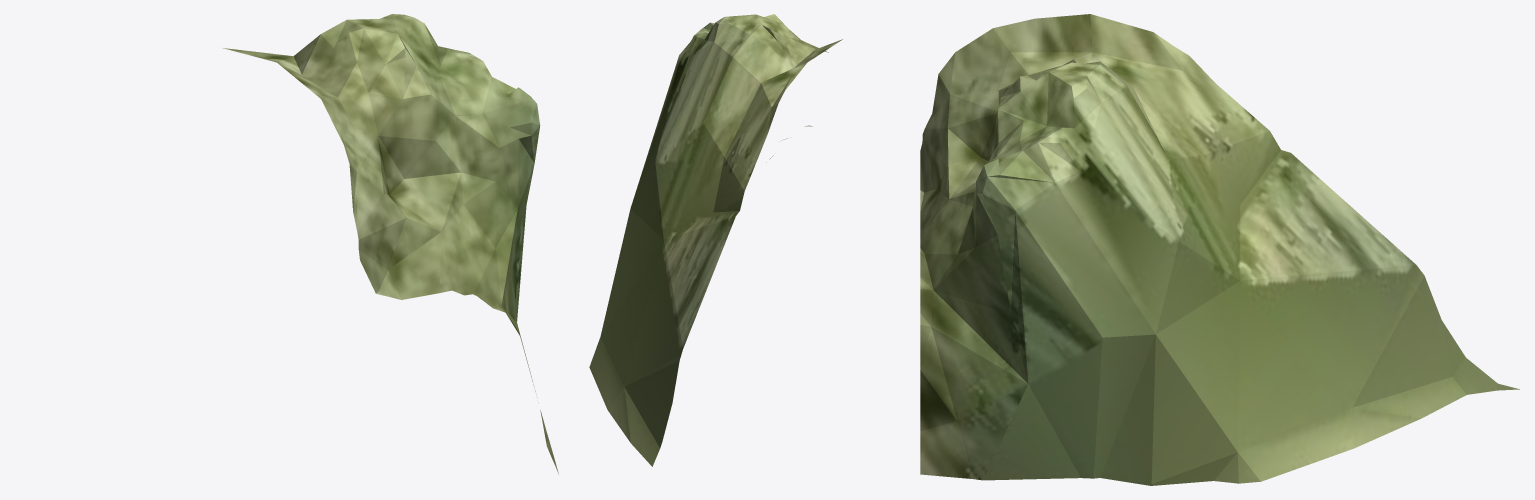
3 renders of one model, left to right at view 1: azimuth 30°, elevation 25°; view 2: azimuth 150°, elevation 25°; view 3: azimuth 270°, elevation 25°, orthographic. The views are drawn at different scales.
Bounding box in the file's own units: 1.44 × 2.53 × 3.67.
Materials: 1 (1 with a texture image).
